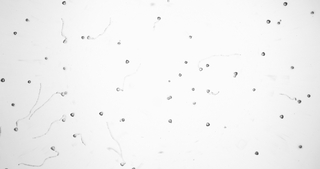germinated: (49, 143, 58, 155), (12, 120, 20, 132), (114, 84, 124, 92), (197, 60, 204, 71), (117, 156, 124, 167), (61, 32, 68, 43), (292, 96, 301, 104), (56, 91, 68, 97), (71, 132, 82, 138), (154, 15, 161, 23), (86, 34, 95, 40), (60, 113, 66, 122), (205, 88, 213, 94)
nongerminated: (277, 112, 284, 120), (204, 120, 212, 127), (166, 117, 173, 125), (60, 0, 68, 7), (59, 64, 67, 71), (259, 50, 266, 57), (289, 64, 296, 71), (305, 92, 312, 99), (187, 33, 194, 40), (177, 70, 184, 77), (191, 101, 198, 108), (23, 16, 30, 23), (11, 29, 18, 36), (26, 79, 33, 86), (264, 18, 272, 24), (166, 94, 172, 102), (97, 110, 105, 116), (80, 34, 86, 42), (43, 54, 49, 62), (309, 9, 315, 16), (282, 0, 288, 7), (297, 143, 303, 150), (253, 149, 259, 156), (233, 70, 240, 76), (183, 59, 189, 66), (123, 58, 130, 64), (119, 117, 126, 123), (69, 111, 76, 117), (9, 102, 16, 108), (251, 86, 257, 92), (204, 62, 210, 68), (190, 85, 196, 91), (116, 40, 122, 46), (0, 76, 6, 82)
